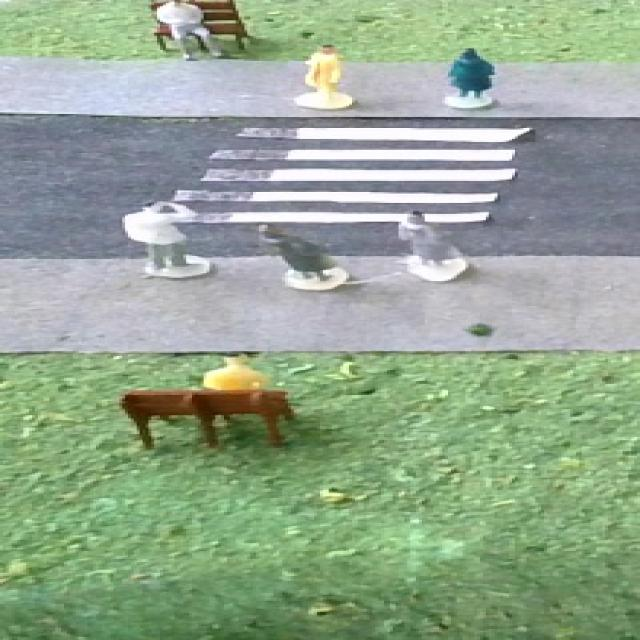person: (120, 198, 218, 281), (252, 221, 354, 292), (286, 41, 363, 118), (394, 207, 470, 285), (149, 0, 234, 64), (441, 48, 499, 110), (196, 348, 273, 390)
